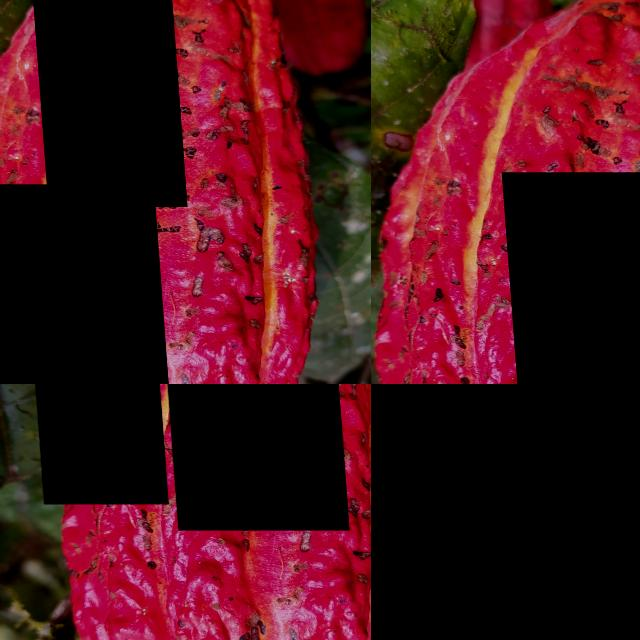Fitoftora: (0, 184, 165, 384), (31, 384, 163, 504), (317, 419, 371, 561)
Monilia: (28, 0, 182, 206), (153, 384, 343, 530)
Sana: (371, 384, 640, 640), (498, 172, 640, 384), (0, 419, 35, 554)
